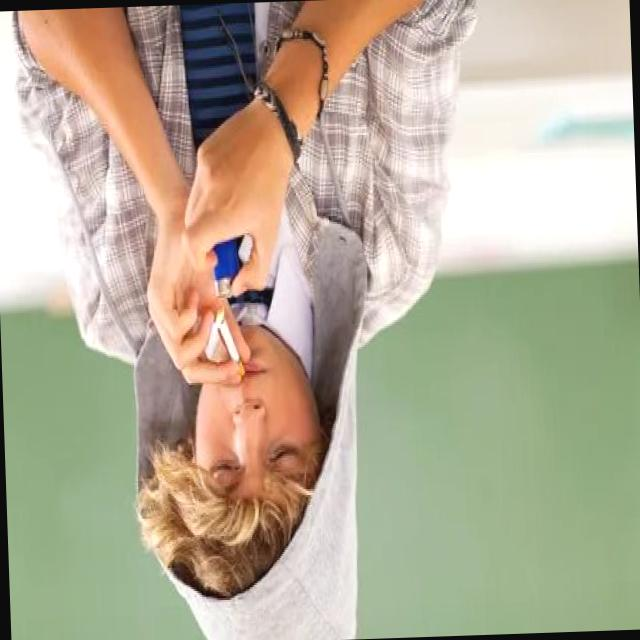cigarette: (210, 302, 247, 378)
